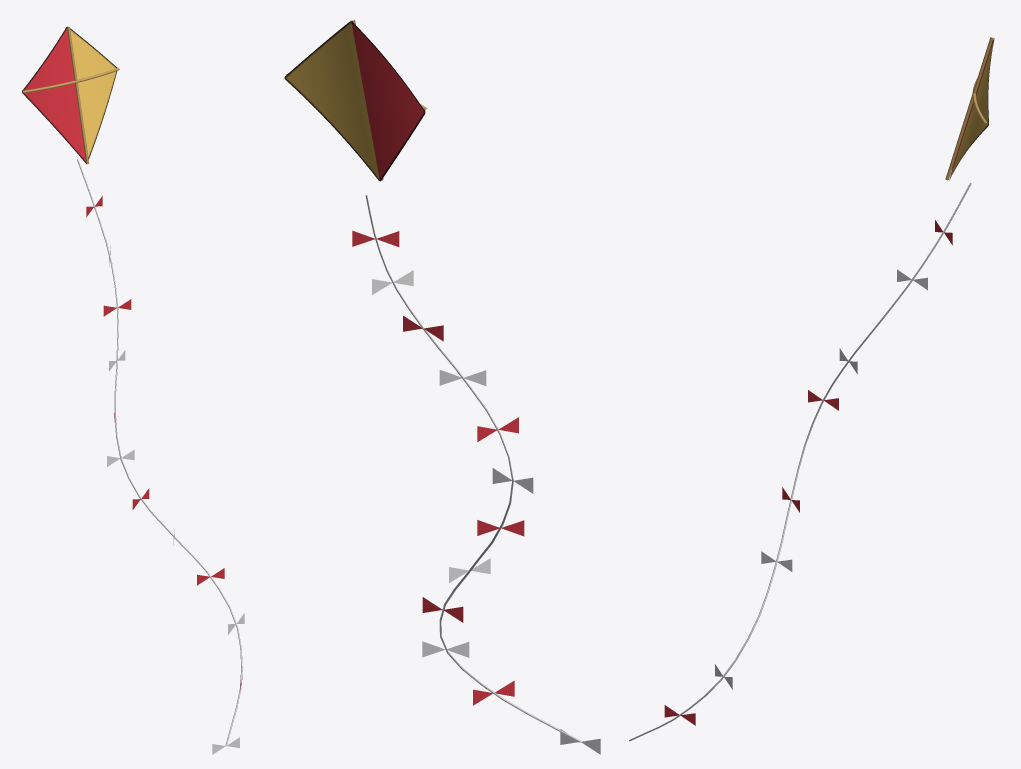
The model's file is pipa-1.glb.
3 views of the same model, side by side, from view 1: azimuth 30°, elevation 25°; view 2: azimuth 150°, elevation 25°; view 3: azimuth 270°, elevation 25° (orthographic). The views are drawn at different scales.
Parts seen in each view (by area): view 1: pipa-1; view 2: pipa-1; view 3: pipa-1.
Part boxes in pixels (x1,y1,x2,y2): pipa-1: (22,26,244,754); pipa-1: (284,19,600,754); pipa-1: (629,37,994,741).
Bounding box in the file's own units: 1.06 × 5.5 × 2.66.
Materials: 5 (1 with a texture image).
